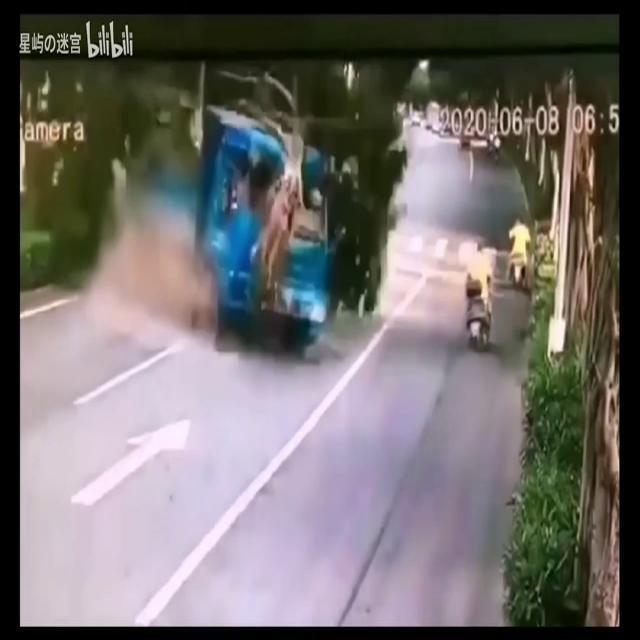accident: (102, 74, 408, 358)
non-accident: (462, 214, 532, 356)
